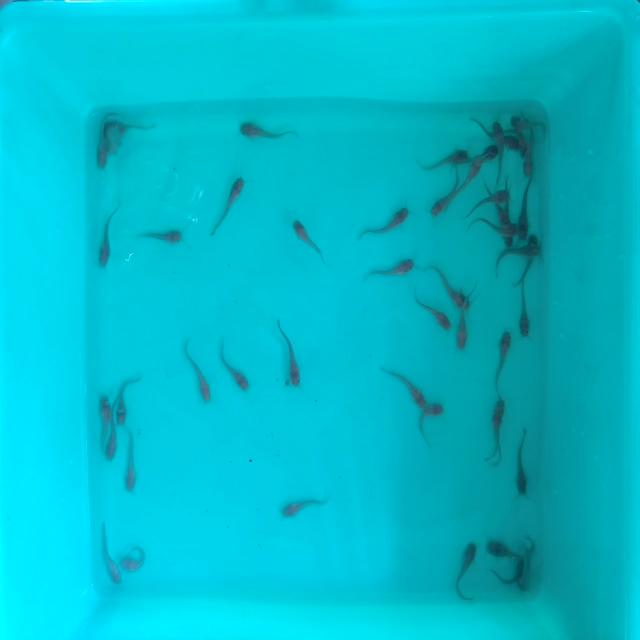lele: (208, 175, 247, 236), (292, 219, 335, 270), (179, 338, 214, 400), (214, 334, 252, 391), (426, 260, 466, 312), (382, 362, 428, 407), (358, 203, 413, 240), (482, 399, 510, 466), (427, 165, 461, 217), (412, 291, 454, 331), (457, 542, 482, 603), (237, 120, 297, 144), (105, 112, 138, 153), (366, 254, 418, 280), (517, 172, 538, 236), (490, 330, 511, 394), (98, 206, 120, 266), (282, 327, 303, 386), (421, 146, 468, 172), (282, 494, 326, 520), (117, 379, 139, 424), (462, 193, 496, 222), (104, 526, 120, 586), (418, 405, 446, 439), (456, 310, 479, 348), (466, 115, 495, 144), (487, 537, 519, 563), (493, 244, 538, 262), (125, 431, 138, 493), (518, 279, 532, 336), (519, 430, 530, 500), (515, 255, 538, 288), (121, 545, 147, 574), (472, 214, 502, 239), (520, 543, 534, 596), (495, 119, 507, 178), (462, 154, 482, 189), (140, 231, 182, 246), (487, 566, 517, 586), (510, 115, 551, 128), (105, 424, 118, 464), (482, 144, 497, 173), (97, 120, 106, 166), (503, 201, 512, 242), (521, 157, 538, 178), (101, 401, 110, 436), (515, 129, 526, 153)
